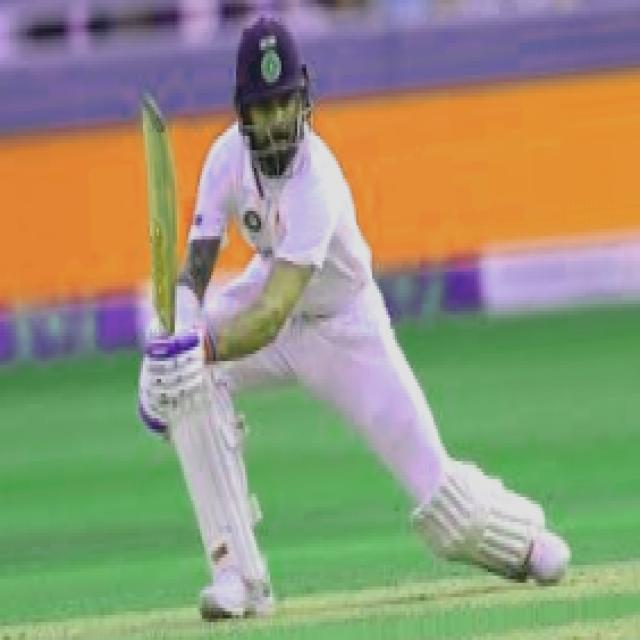toe: (142, 94, 171, 160)
